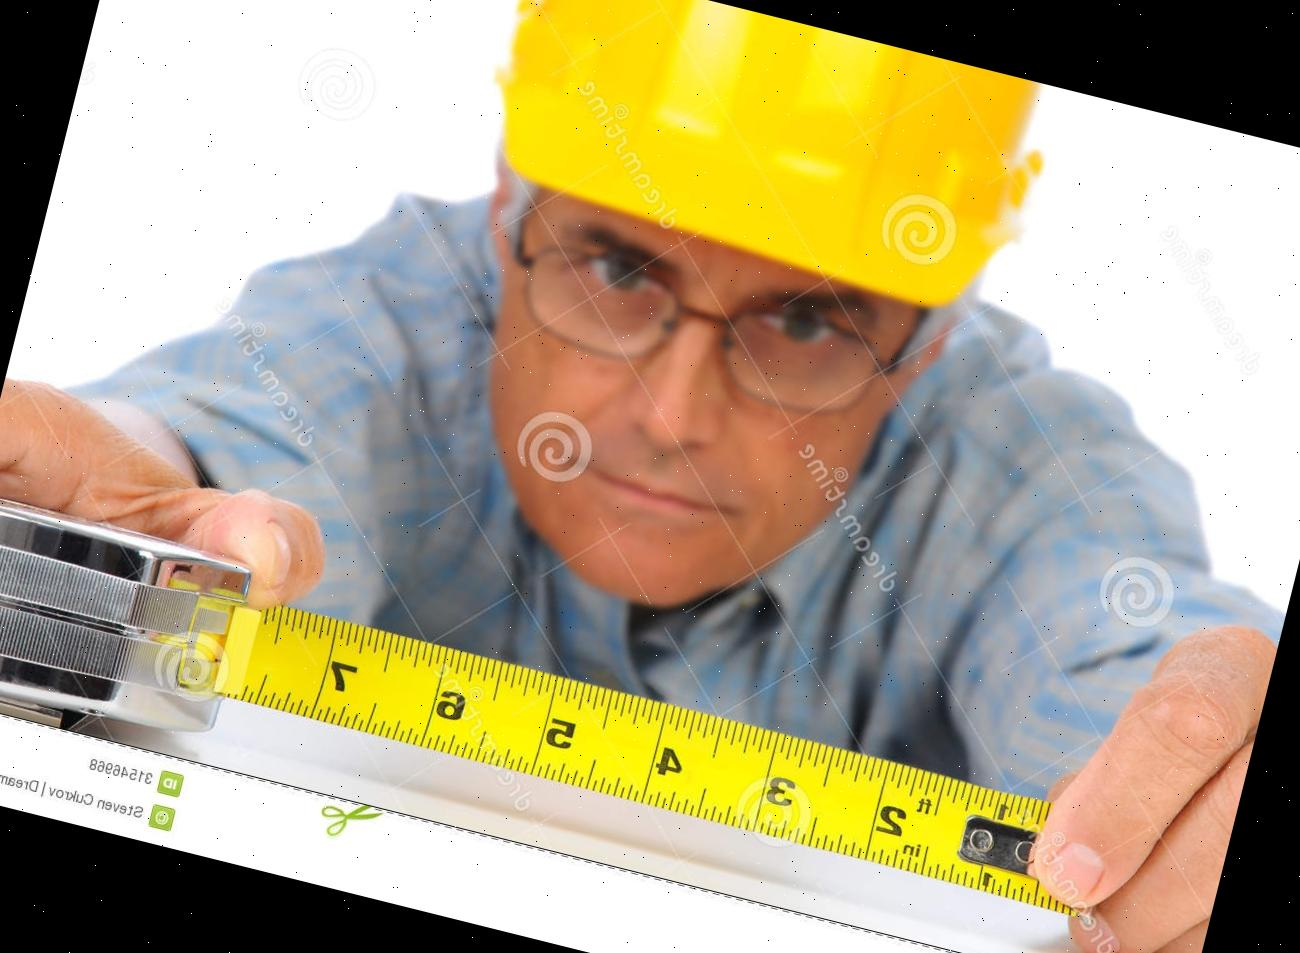helmet: (464, 0, 1064, 338)
